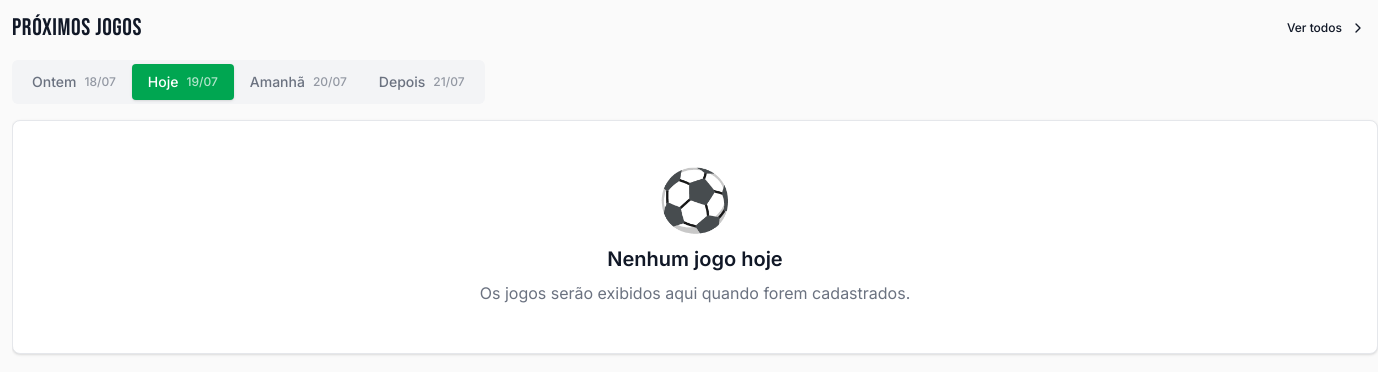
Test: ProximosJogosTabs › troca para os jogos de Depois ao clicar na aba
The width and height of the screenshot is (1378, 372).
Click the tab "Depois 21/07".
click(422, 82)  # box [363,66,480,98]
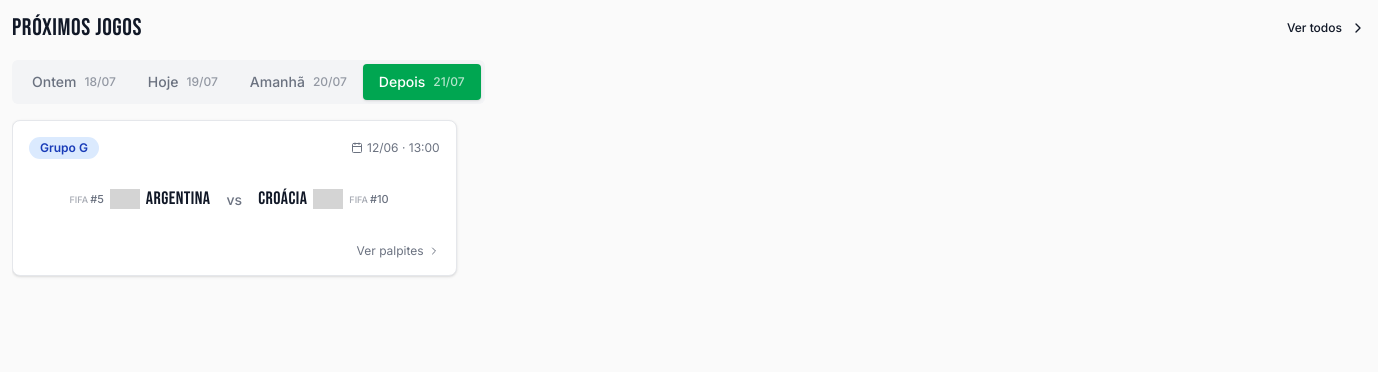
Expected: the text "Argentina" is shown, [146,188,210,210]
